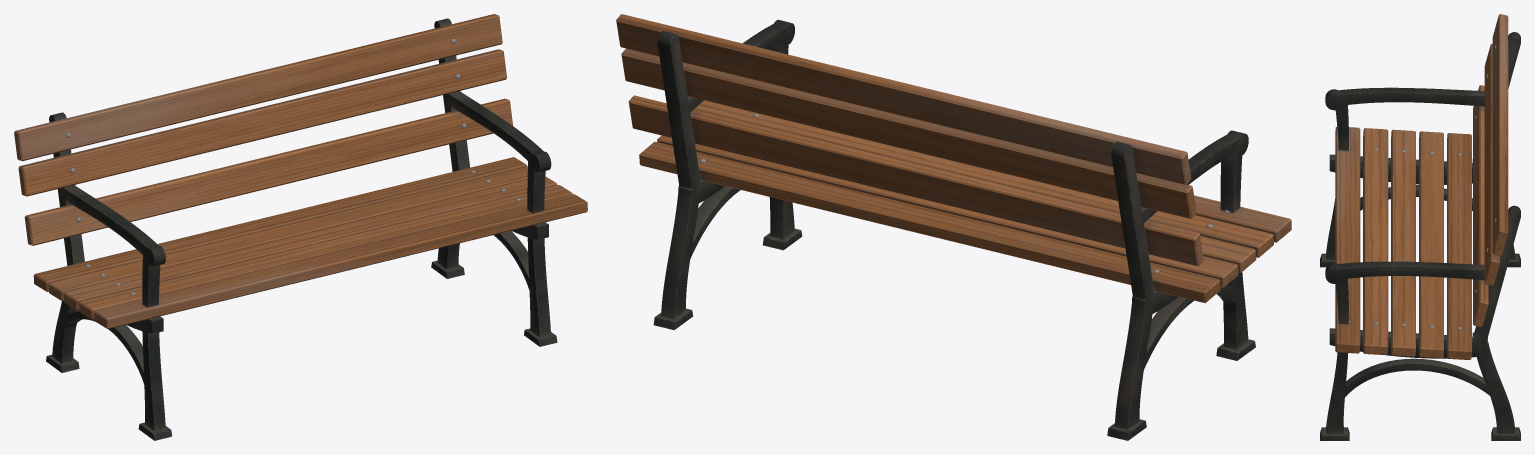
File: park-bench.glb
3 views of the same model, side by side, from view 1: azimuth 30°, elevation 25°; view 2: azimuth 150°, elevation 25°; view 3: azimuth 270°, elevation 25° (orthographic). The views are drawn at different scales.
Visible parts, largest first — view 1: park-bench_body; view 2: park-bench_body; view 3: park-bench_body.
Part boxes in pixels (x1,y1,x2,y2): park-bench_body: [14, 14, 587, 440]; park-bench_body: [616, 14, 1291, 440]; park-bench_body: [1320, 14, 1520, 440].
Bounding box in the file's own units: 1.8 × 0.8843 × 0.704.
Materials: 1 (1 with a texture image).
